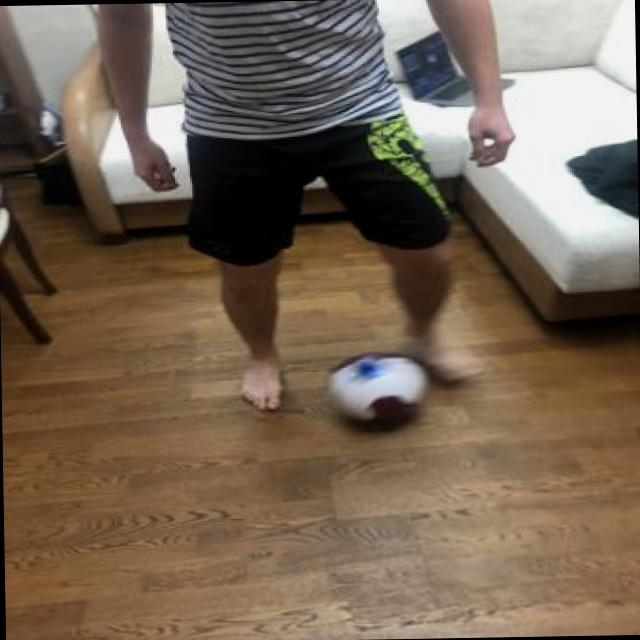Soccer Ball: (324, 346, 434, 428)
